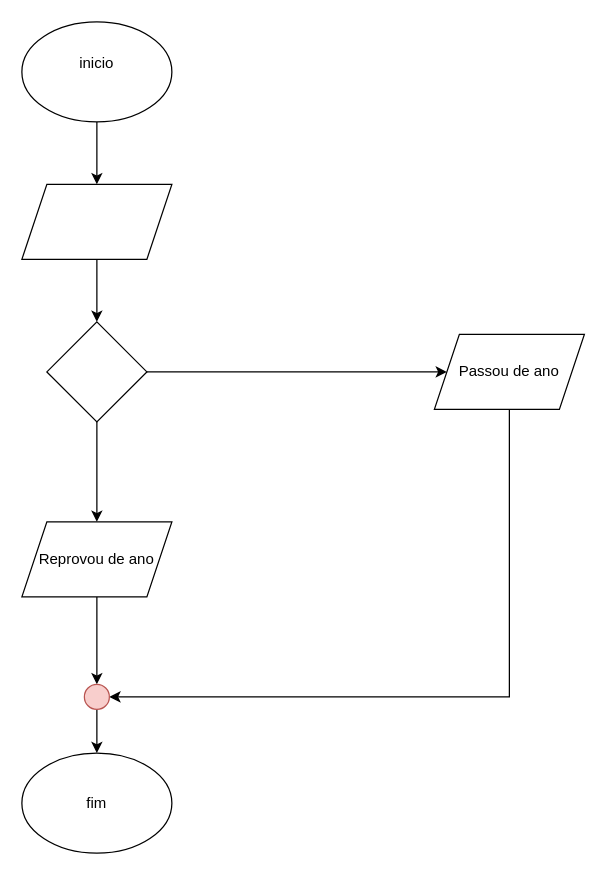
Image size: 606x875. Some labels were removed from this diagram. The shapes that lost their labels are listed below. From the top down, each one's centre as x and y in pixels, then its label:
At point 96,221: "ler nota".
At point 96,371: "nota > 9,5".
